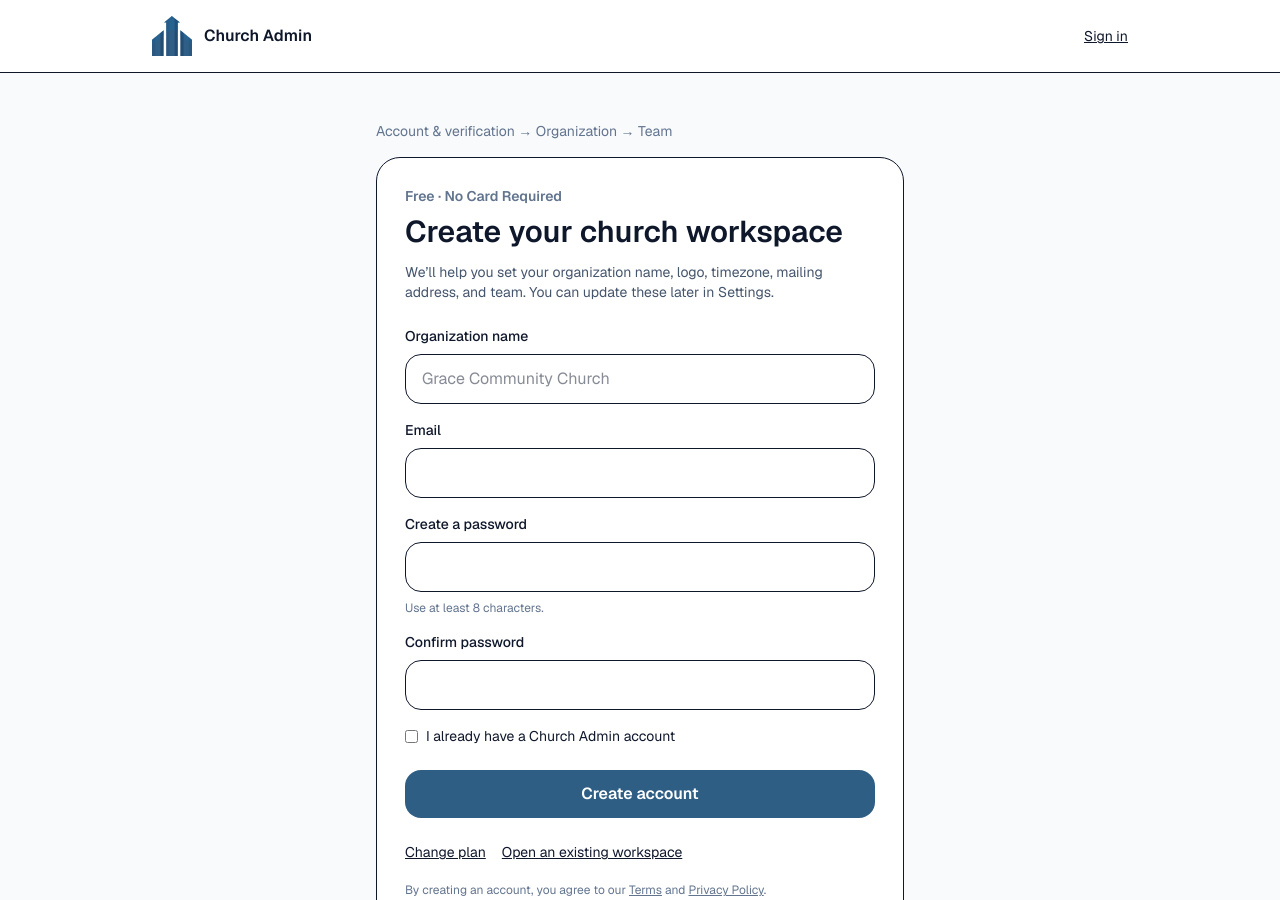
Test case: rejects mismatched passwords without creating an account
Step 1. Type "Grace Church" into the field labelled "Organization name" → (640, 379), box x1=405 y1=354 x2=875 y2=404
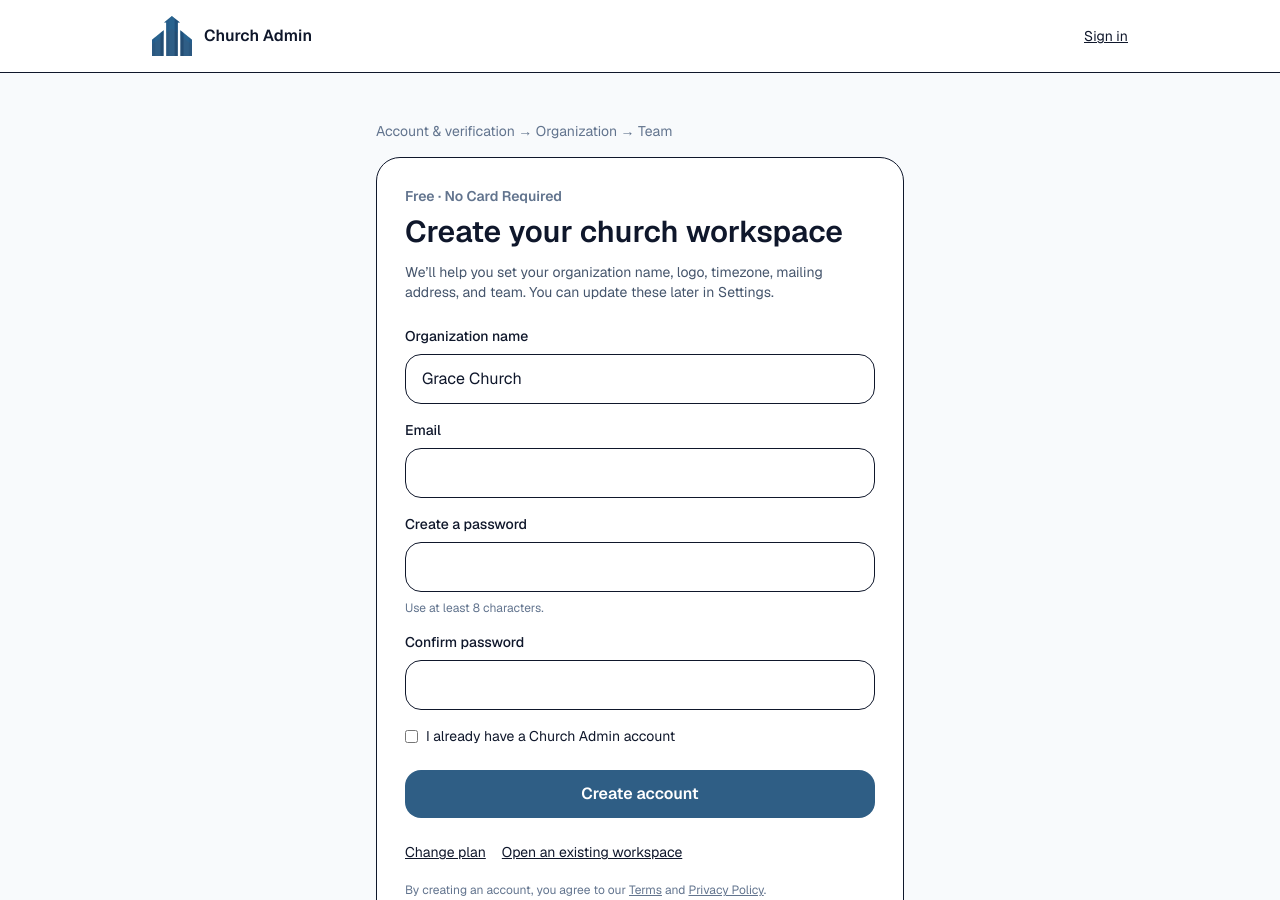
Step 2. Type "owner@example.invalid" into the field labelled "Email" → (640, 473), box x1=405 y1=448 x2=875 y2=498
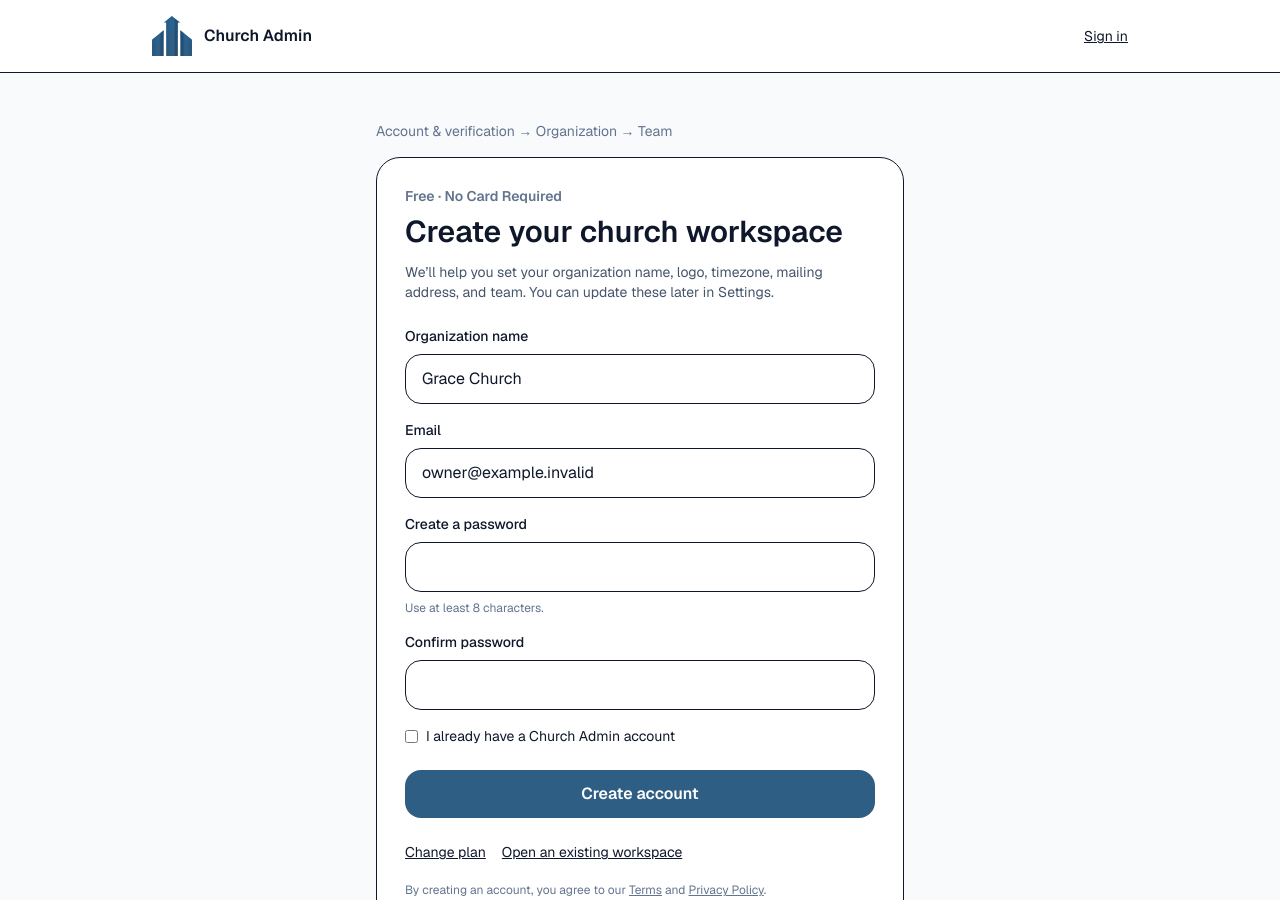
Step 3. Type "test-password" into the password field labelled "Create a password" → (640, 567), box x1=405 y1=542 x2=875 y2=592
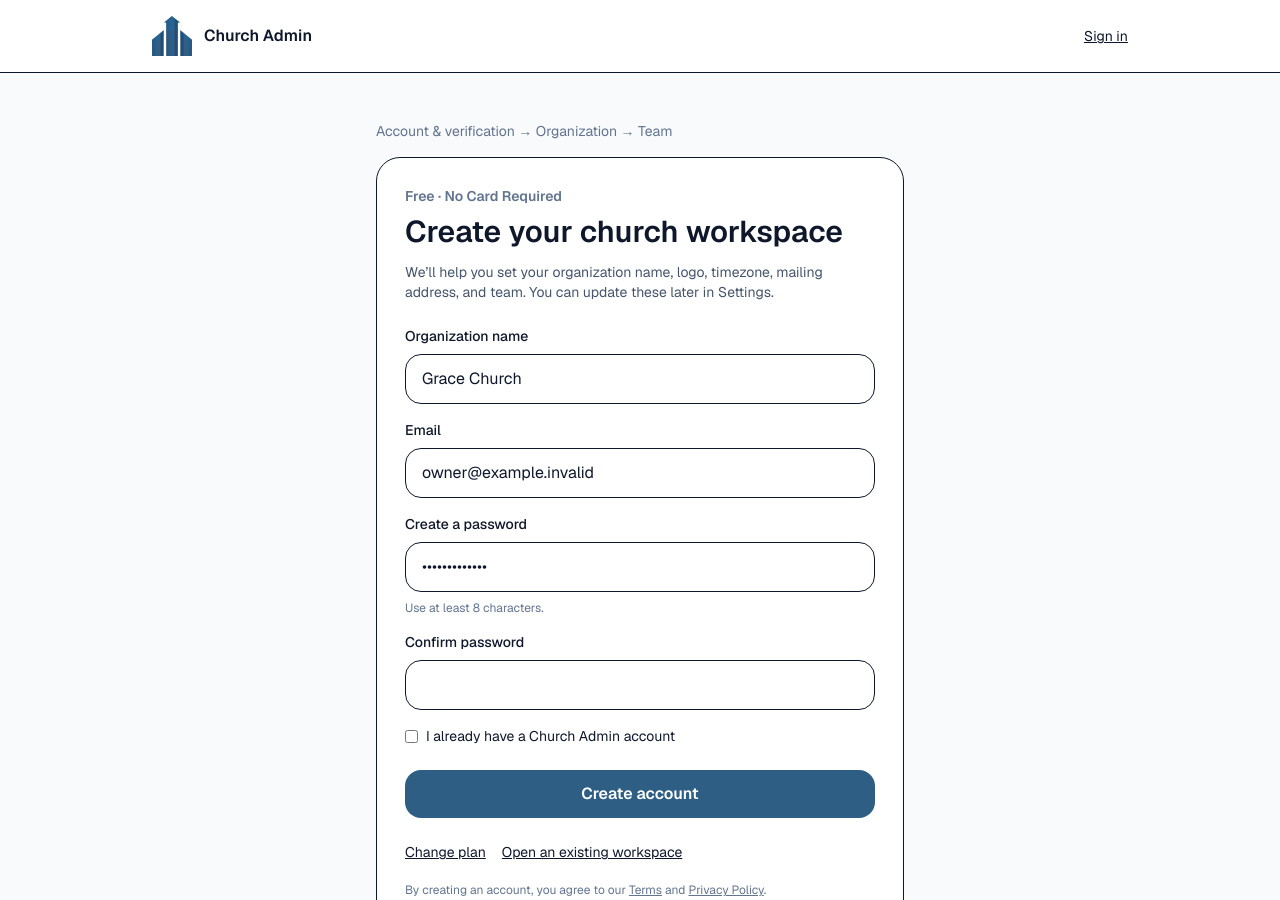
Step 4. Type "test-password" into the password field labelled "Confirm password" → (640, 685), box x1=405 y1=660 x2=875 y2=710
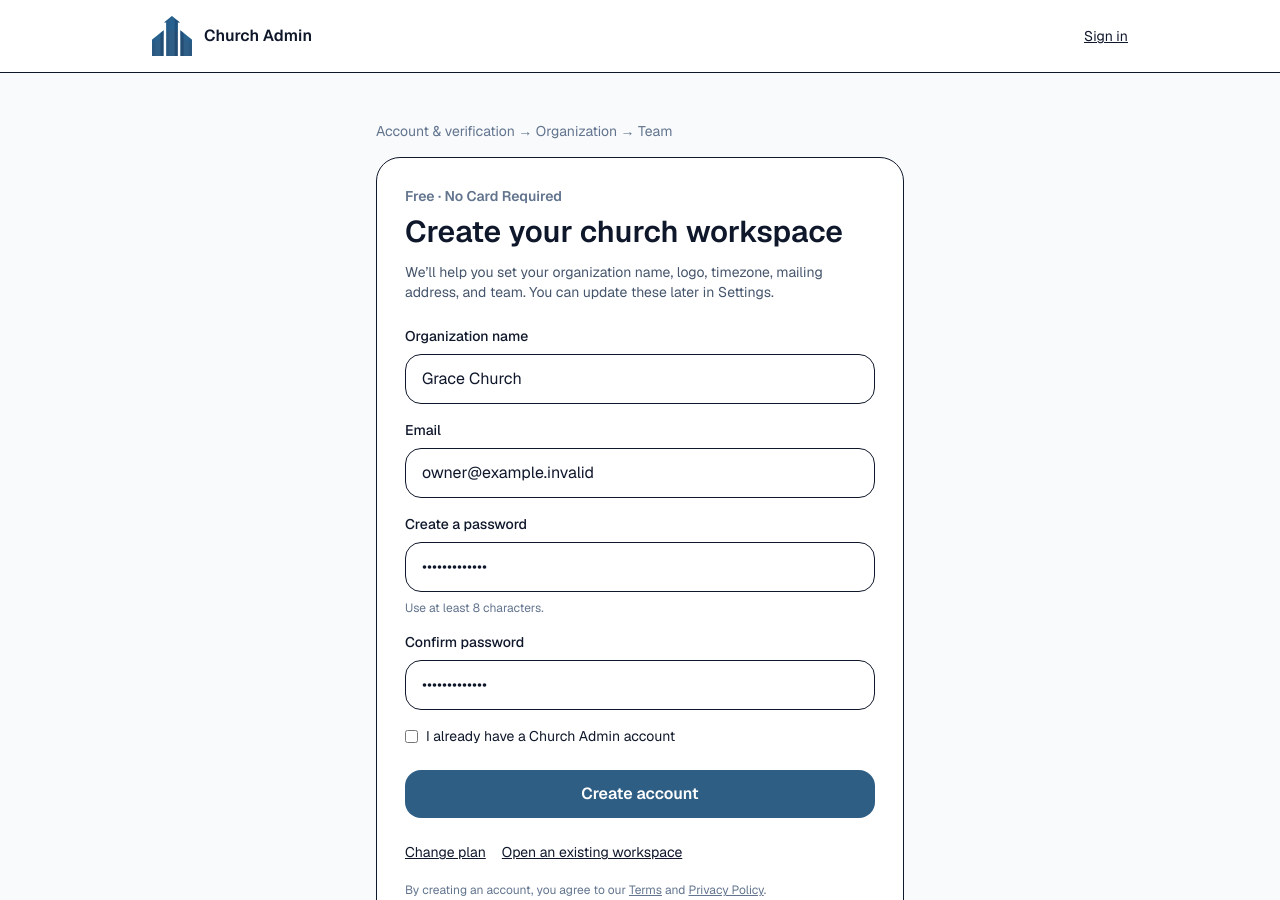
Step 5. Type "different" into the password field labelled "Confirm password" → (640, 685), box x1=405 y1=660 x2=875 y2=710
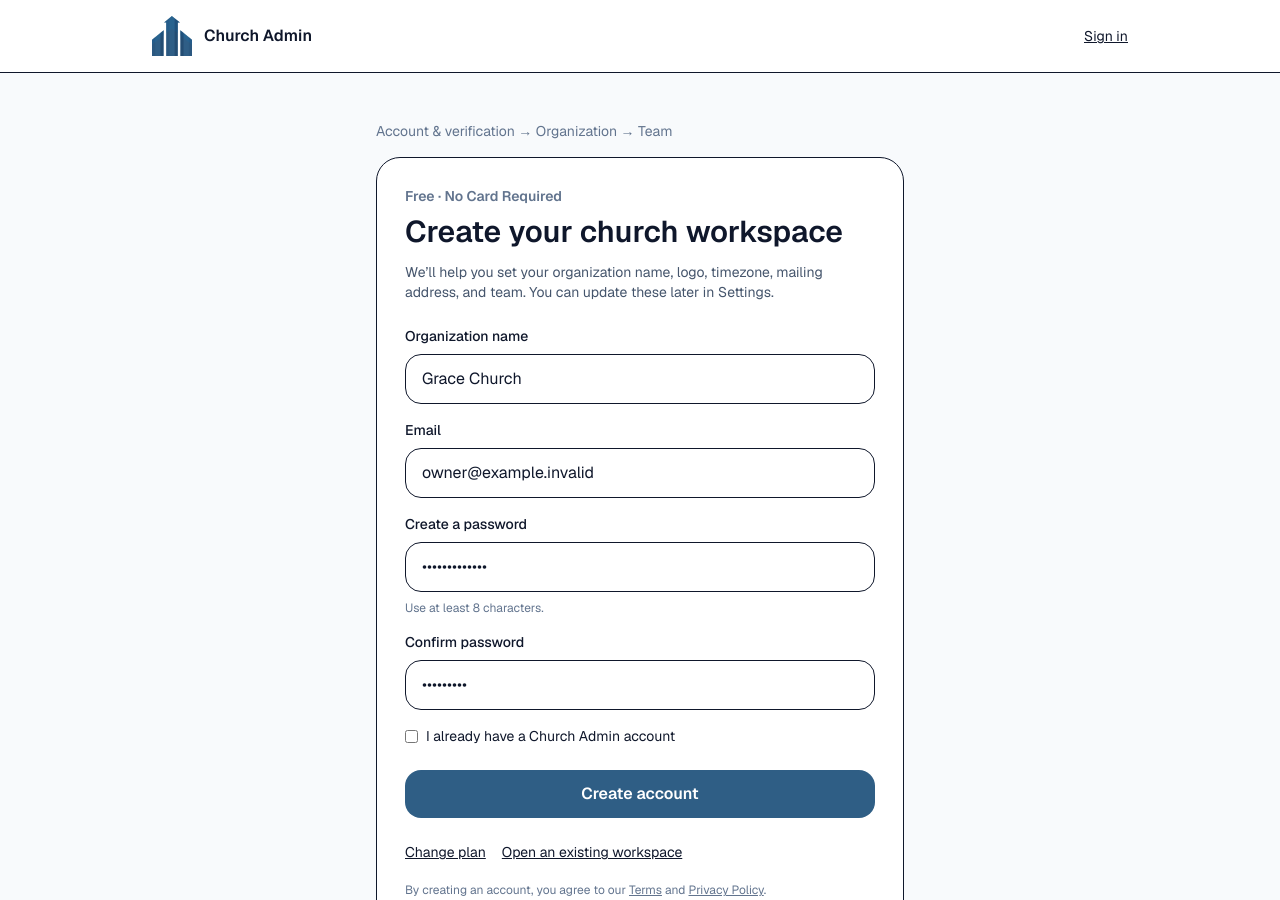
Step 6. Click the button "Create account" → (640, 794), box x1=405 y1=770 x2=875 y2=818
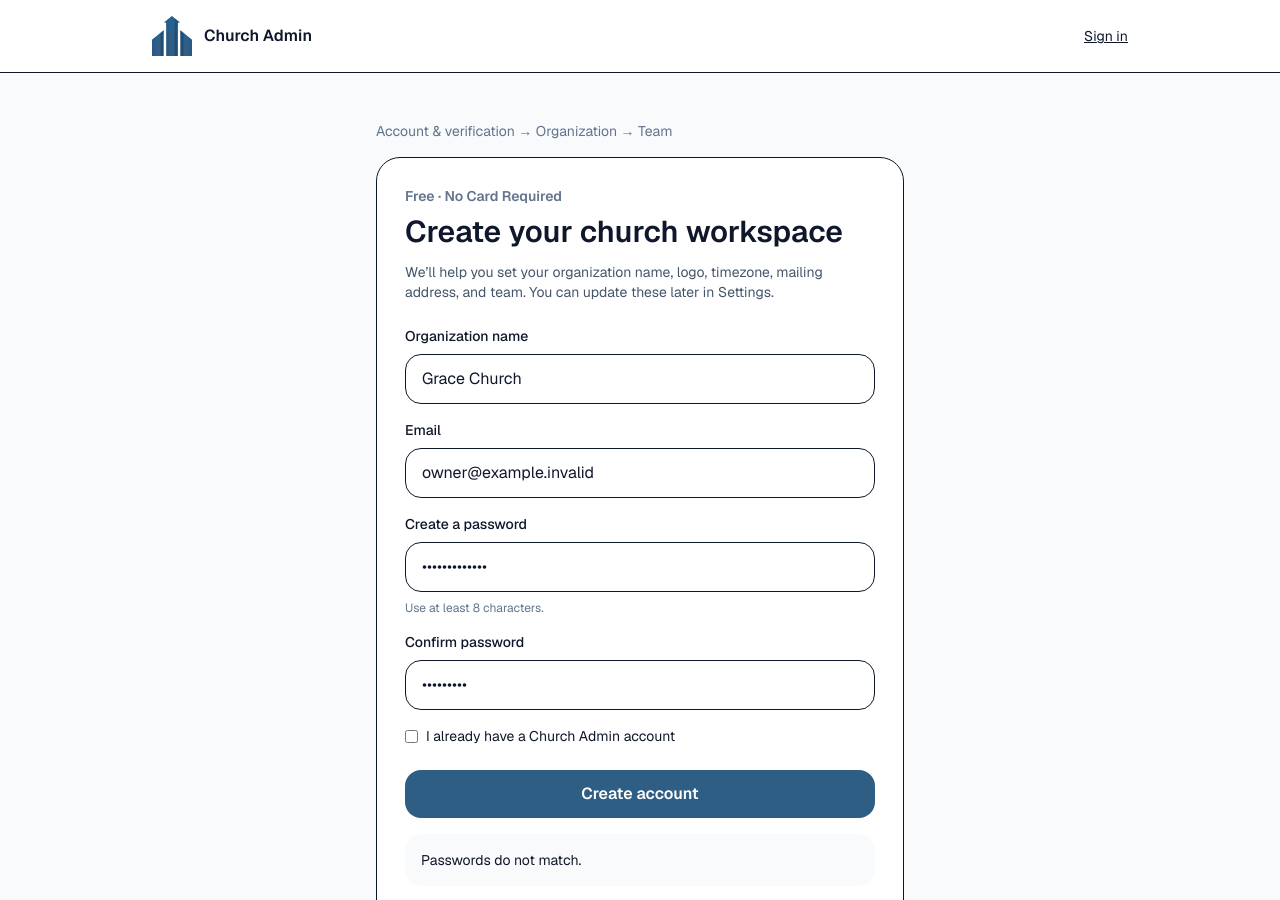
Check: the text "Passwords do not match." is shown, box x1=405 y1=834 x2=875 y2=886
